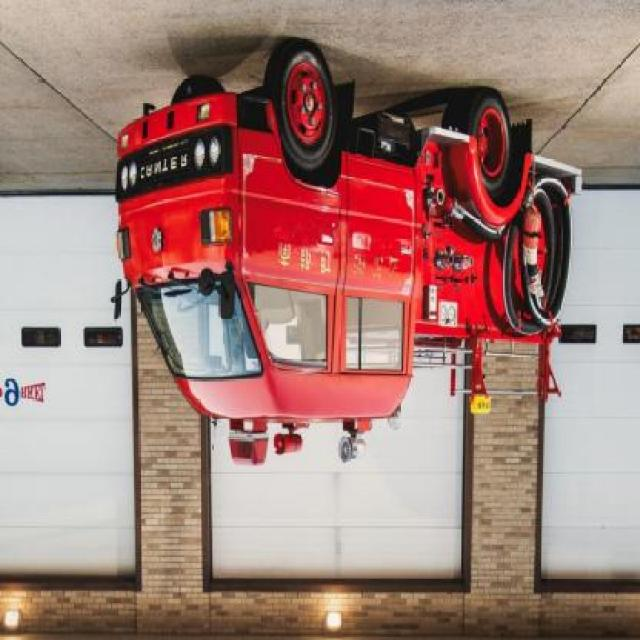truck: (114, 47, 586, 427)
